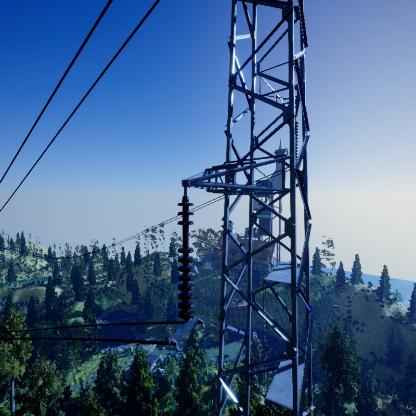insulator: (175, 199, 197, 324)
